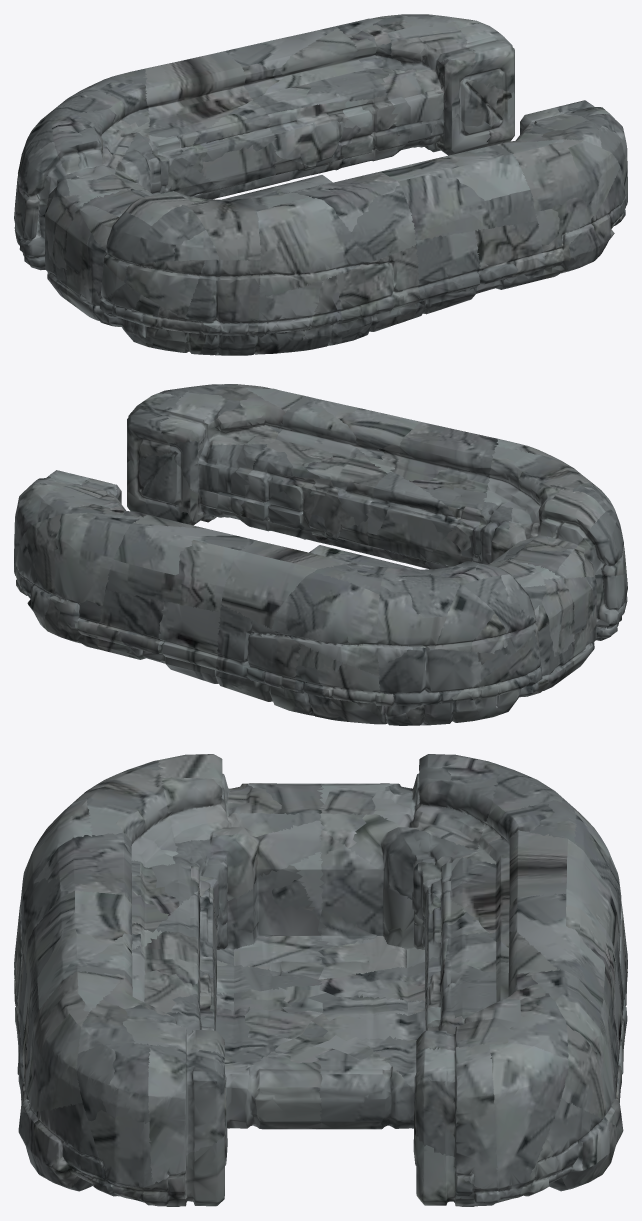
The model's file is arc-relay-lean.glb.
3 renders of one model, top to bottom at view 1: azimuth 30°, elevation 25°; view 2: azimuth 150°, elevation 25°; view 3: azimuth 270°, elevation 25°, orthographic. The views are drawn at different scales.
Parts seen in each view (by area): view 1: chassis; view 2: chassis; view 3: chassis.
Part boxes in pixels (box(x1,y1,x2,y2)): chassis: box(14, 14, 627, 355); chassis: box(14, 384, 627, 725); chassis: box(14, 754, 627, 1206).
Bounding box in the file's own units: 0.9898 × 0.2807 × 0.7564.
1 material, 1 textured.
